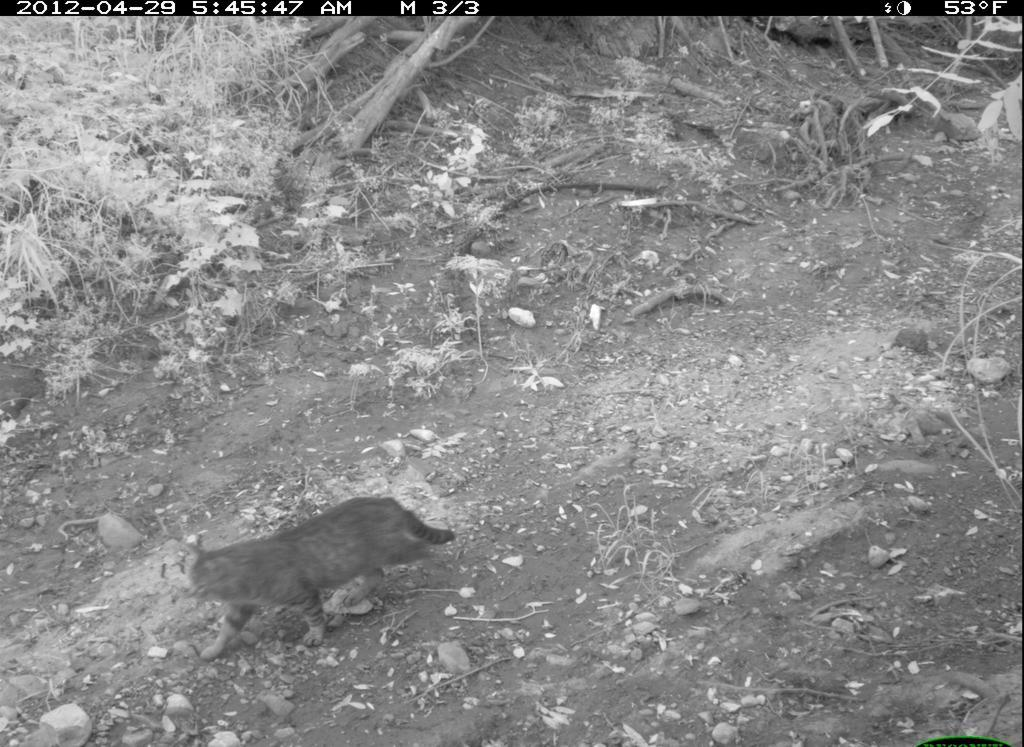cat: (171, 488, 460, 658)
